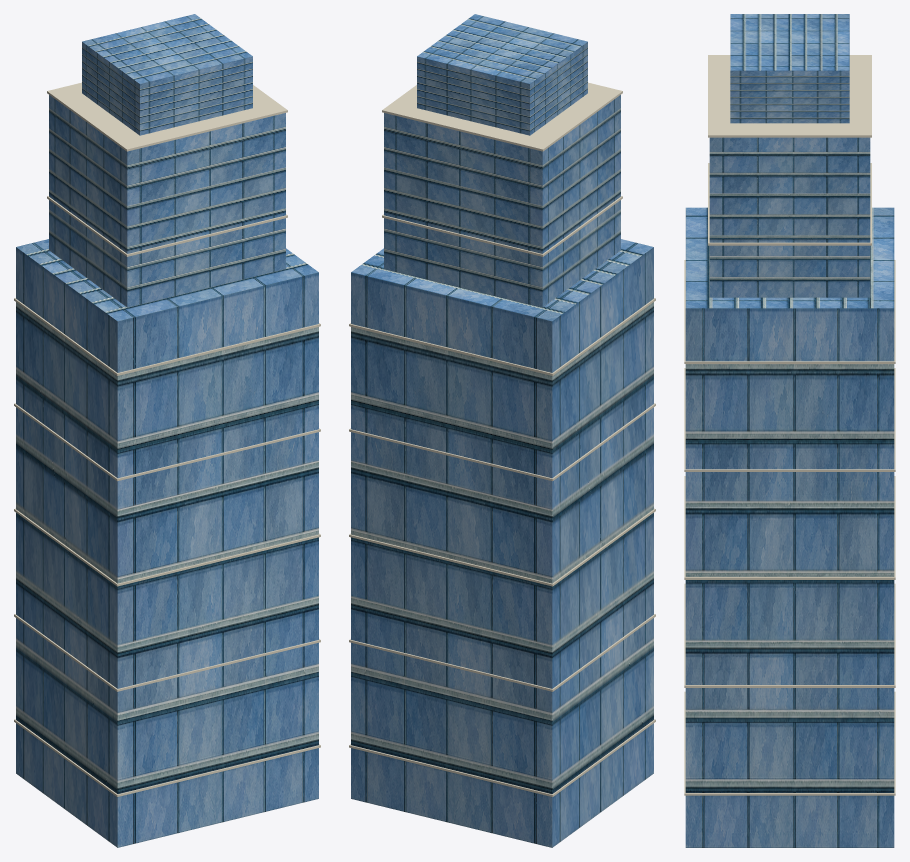
The model's file is modern-lod2.glb.
3 views of the same model, side by side, from view 1: azimuth 30°, elevation 25°; view 2: azimuth 150°, elevation 25°; view 3: azimuth 270°, elevation 25° (orthographic). The views are drawn at different scales.
Parts seen in each view (by area): view 1: modern_architecture; view 2: modern_architecture; view 3: modern_architecture.
Boxes of the visible parts, <box> form: modern_architecture: <box>14,14,320,847</box>; modern_architecture: <box>349,14,655,847</box>; modern_architecture: <box>684,14,895,847</box>.
Size of the model in its own units: 8.1 by 28 by 7.1.
Materials: 2 (1 with a texture image).
